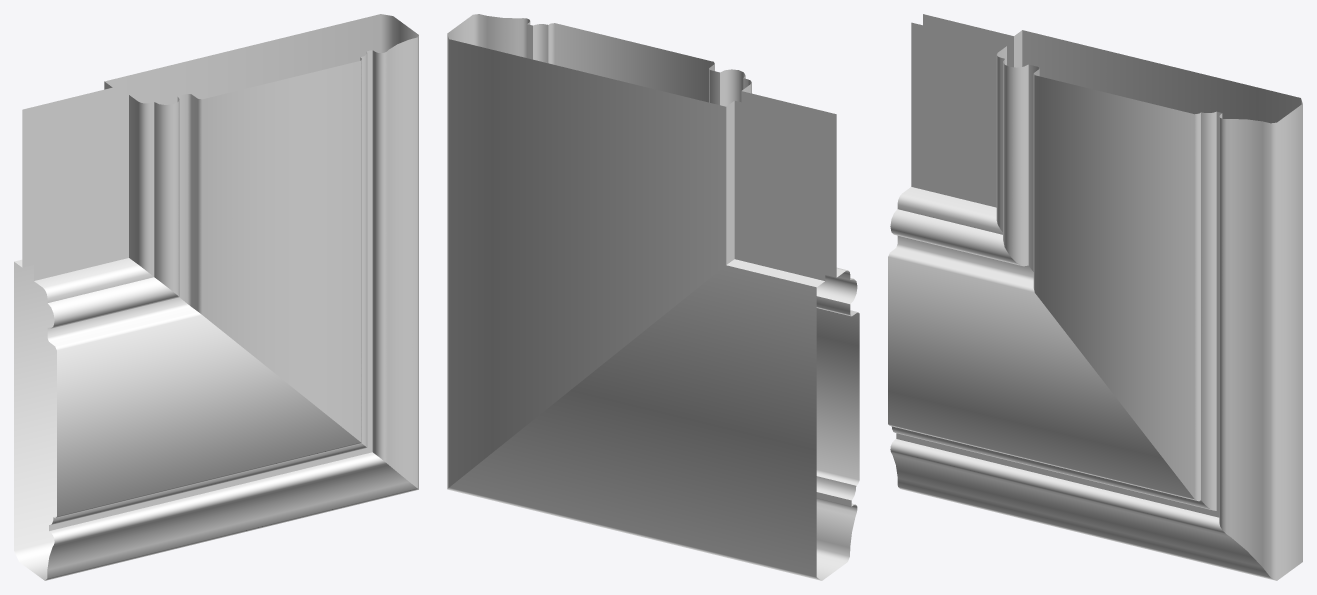
Rendered from original-49.obj.
The picture shows the model from 3 angles, left to right: view 1: azimuth 30°, elevation 25°; view 2: azimuth 150°, elevation 25°; view 3: azimuth 330°, elevation 25°; orthographic projection.
Parts seen in each view (by area): view 1: RT_11_BR1/RT_11_BR/mesh35/mesh35-geometry#mesh35-geometry; view 2: RT_11_BR1/RT_11_BR/mesh35/mesh35-geometry#mesh35-geometry; view 3: RT_11_BR1/RT_11_BR/mesh35/mesh35-geometry#mesh35-geometry.
Boxes of the visible parts, x1=… form: RT_11_BR1/RT_11_BR/mesh35/mesh35-geometry#mesh35-geometry: x1=14, y1=14, x2=418, y2=580; RT_11_BR1/RT_11_BR/mesh35/mesh35-geometry#mesh35-geometry: x1=447, y1=14, x2=859, y2=580; RT_11_BR1/RT_11_BR/mesh35/mesh35-geometry#mesh35-geometry: x1=888, y1=14, x2=1302, y2=580.
Bounding box in the file's own units: 0.1703 × 0.1979 × 0.0338.
